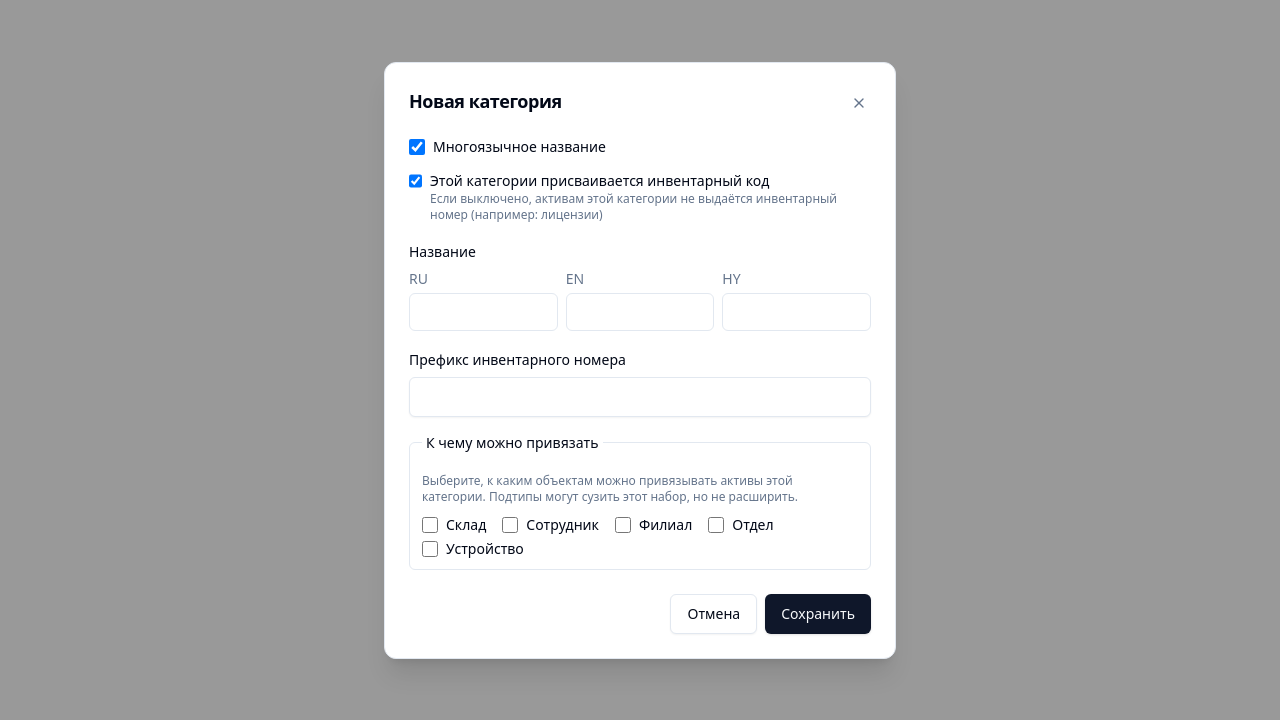
Scenario: CategoryFormDialog › shows MultiLangInput when requiresMultilang is checked
expect the field labelled "ru" is shown: met, box [409,292,558,330]
expect the field labelled "en" is shown: met, box [566,292,714,330]
Click the checkbox labelled "Многоязычное название". click: (417, 146)
box: [409,138,425,154]
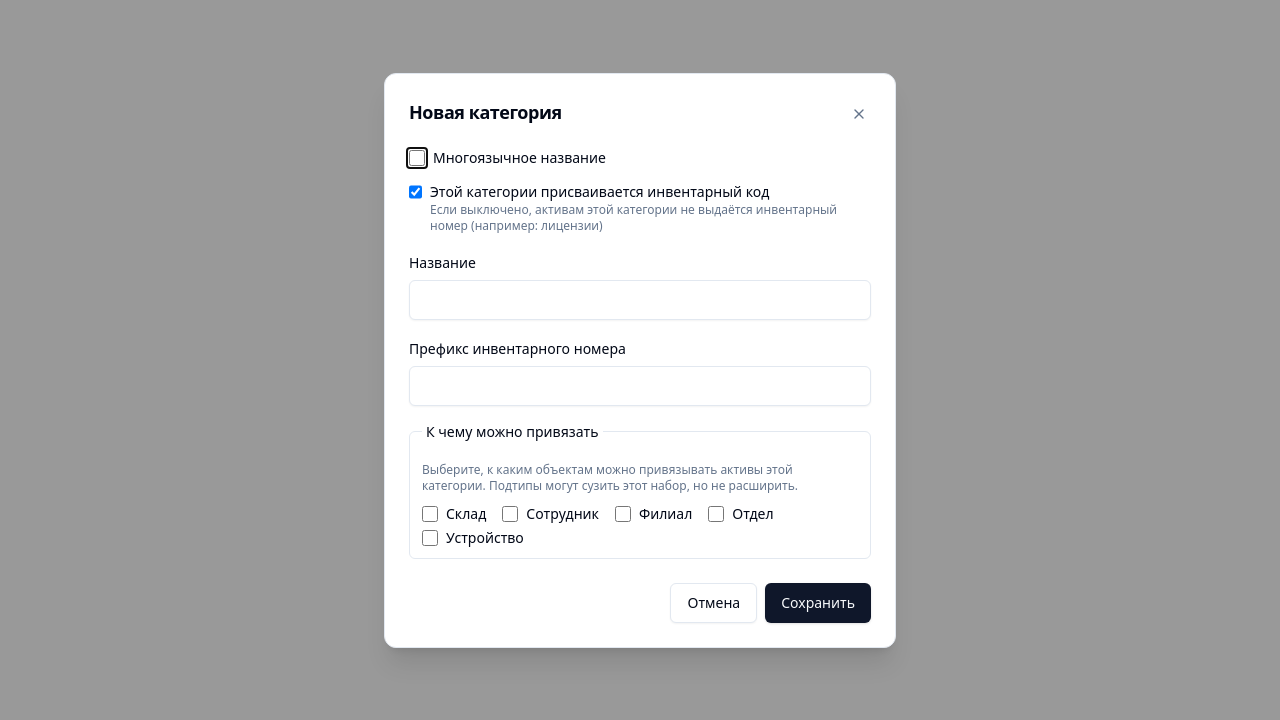
expect the text labelled "en" is gone: met
expect the text labelled "hy" is gone: met
expect the 1st field is shown: met, box [409,280,871,320]
